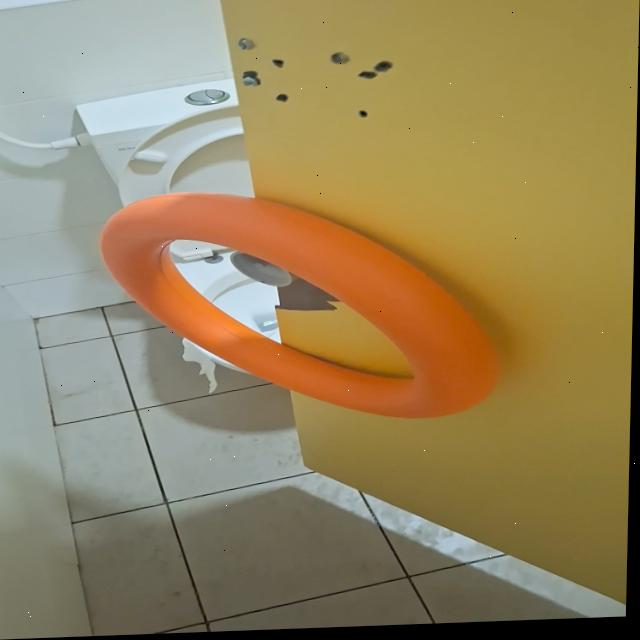note: (95, 183, 507, 433)
